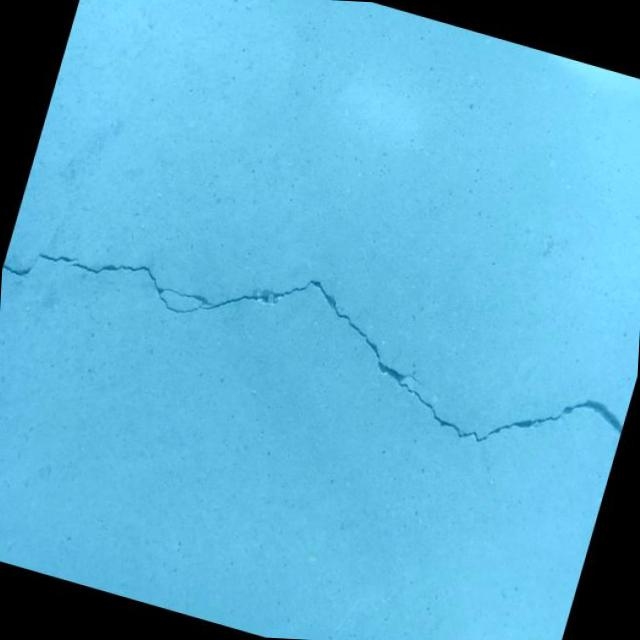crack: (0, 193, 640, 480)
